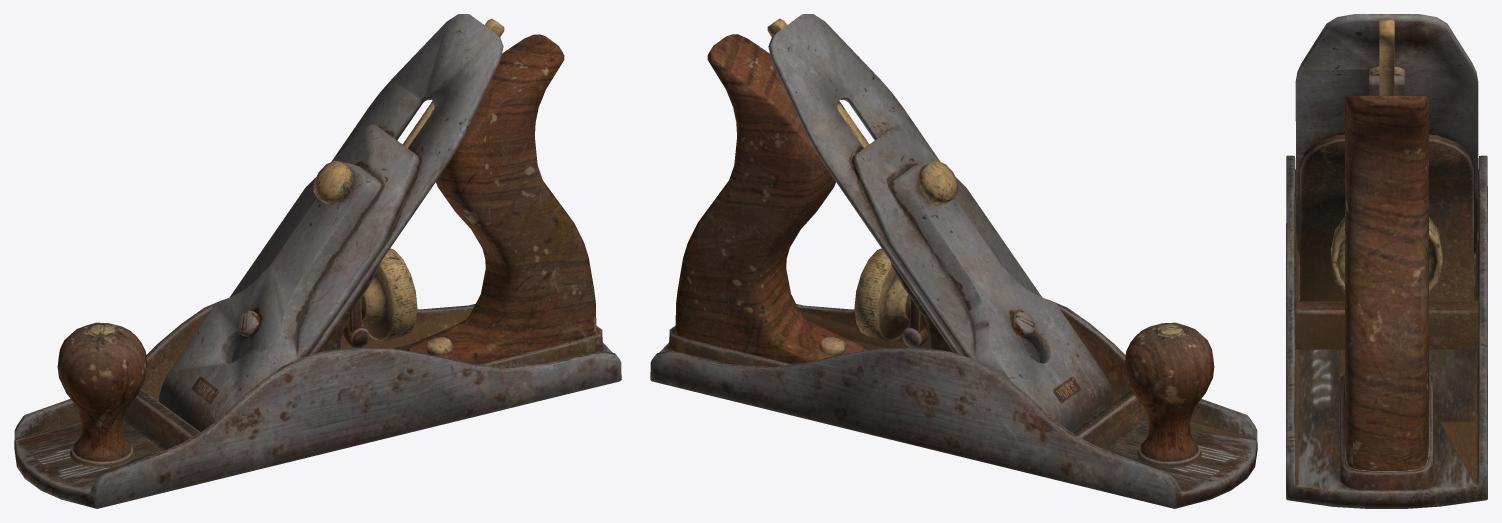
Rendered from hand_plane_no4.glb.
3 views of the same model, side by side, from view 1: azimuth 30°, elevation 25°; view 2: azimuth 150°, elevation 25°; view 3: azimuth 270°, elevation 25° (orthographic). The views are drawn at different scales.
Visible parts, largest first — view 1: hand_plane_no4; view 2: hand_plane_no4; view 3: hand_plane_no4.
Boxes of the visible parts, box(x1,y1,x2,y2) form: hand_plane_no4: box(14, 14, 621, 508); hand_plane_no4: box(650, 14, 1257, 508); hand_plane_no4: box(1286, 14, 1487, 508).
Size of the model in its own units: 0.3308 by 0.1977 by 0.0843.
1 material, 1 textured.
